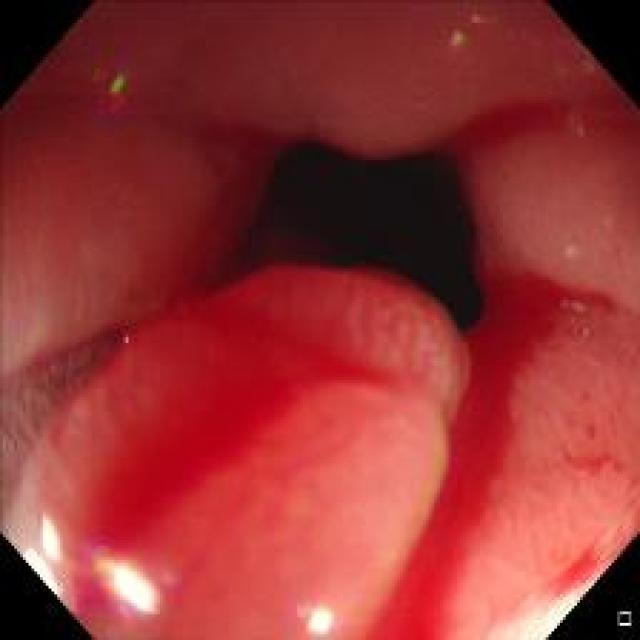blur: (11, 240, 178, 578)
color misalignment: (435, 18, 471, 71), (99, 64, 134, 118)
contrast: (228, 100, 511, 364)
saturation: (472, 566, 585, 636)
specularity: (86, 540, 172, 615), (16, 541, 69, 600), (30, 508, 69, 558), (294, 596, 334, 635)
